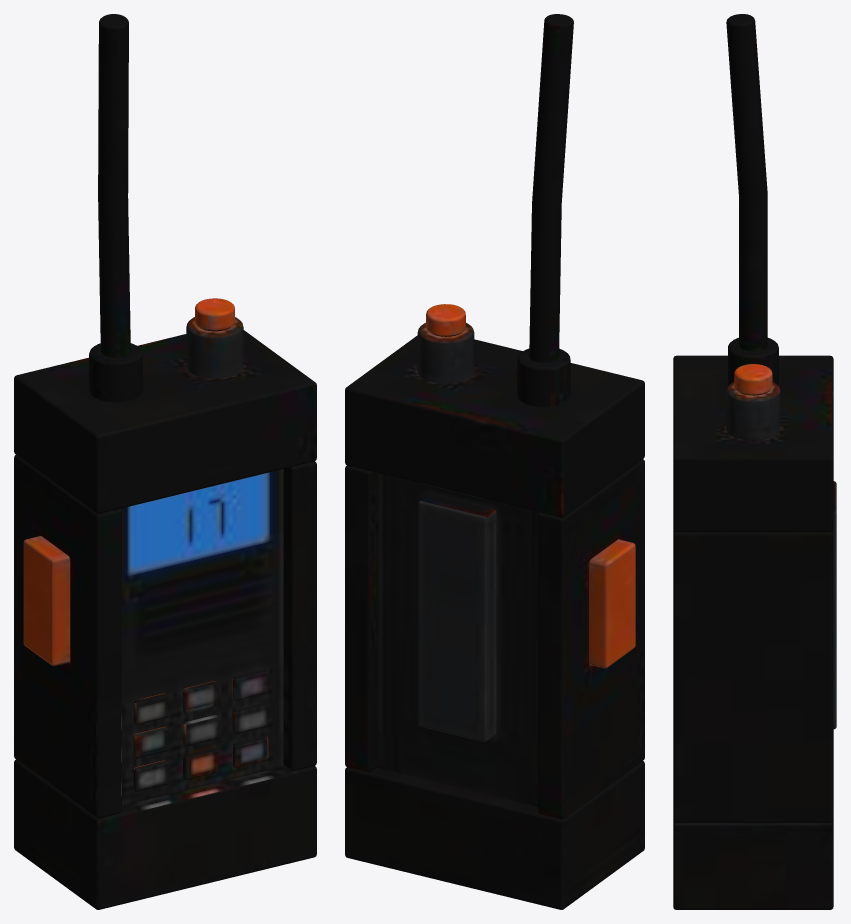
The model's file is radio.glb.
3 views of the same model, side by side, from view 1: azimuth 30°, elevation 25°; view 2: azimuth 150°, elevation 25°; view 3: azimuth 270°, elevation 25° (orthographic). The views are drawn at different scales.
Visible parts, largest first — view 1: radio; view 2: radio; view 3: radio.
Boxes of the visible parts, <box> form: radio: <box>14,14,316,909</box>; radio: <box>345,14,644,909</box>; radio: <box>673,14,836,909</box>.
Size of the model in its own units: 0.082 by 0.2803 by 0.051.
1 material, 1 textured.
